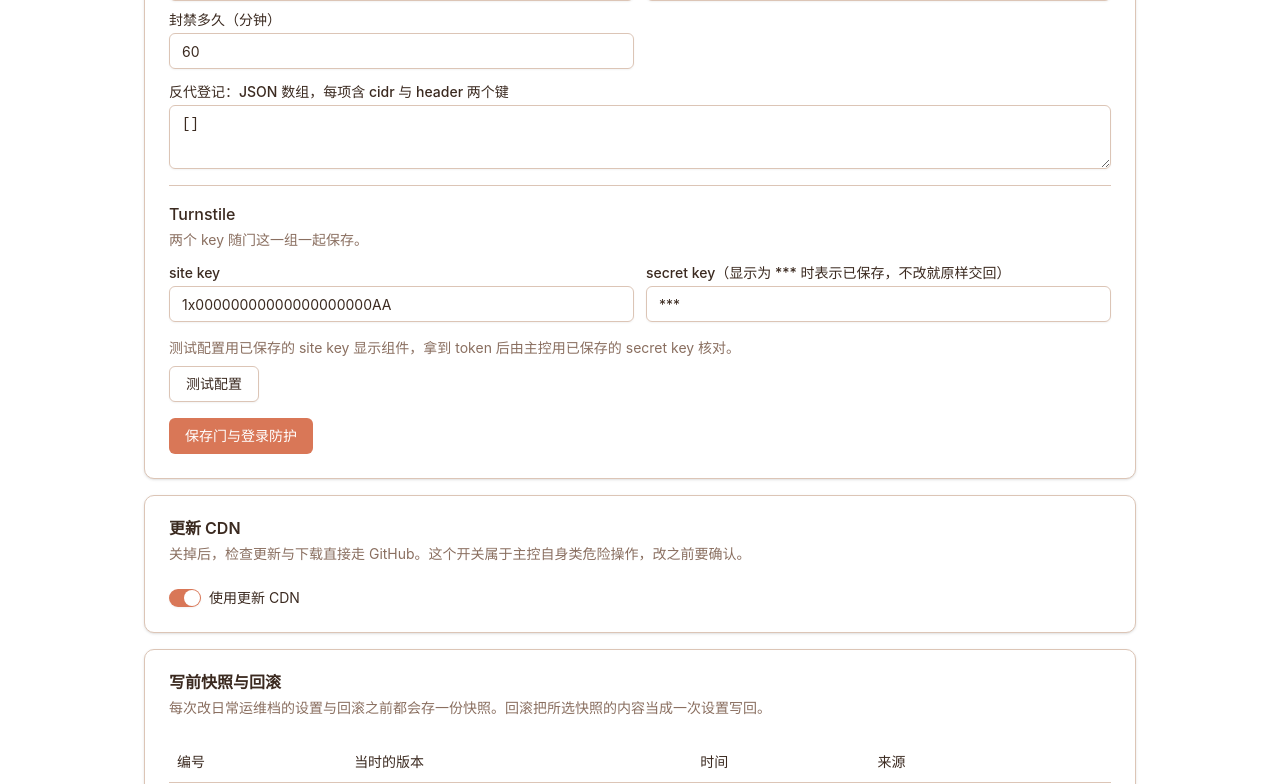
Test: 系统设置页 › 测试 Turnstile 配置：用已保存的 site key 显示组件，拿到 token 后显示核对结果
The width and height of the screenshot is (1280, 784).
(page scrolled)
What coordinates should you click on to do the following:
click the button "测试配置"
I would click on:
 (214, 384)
Its box is [169,366,259,402].
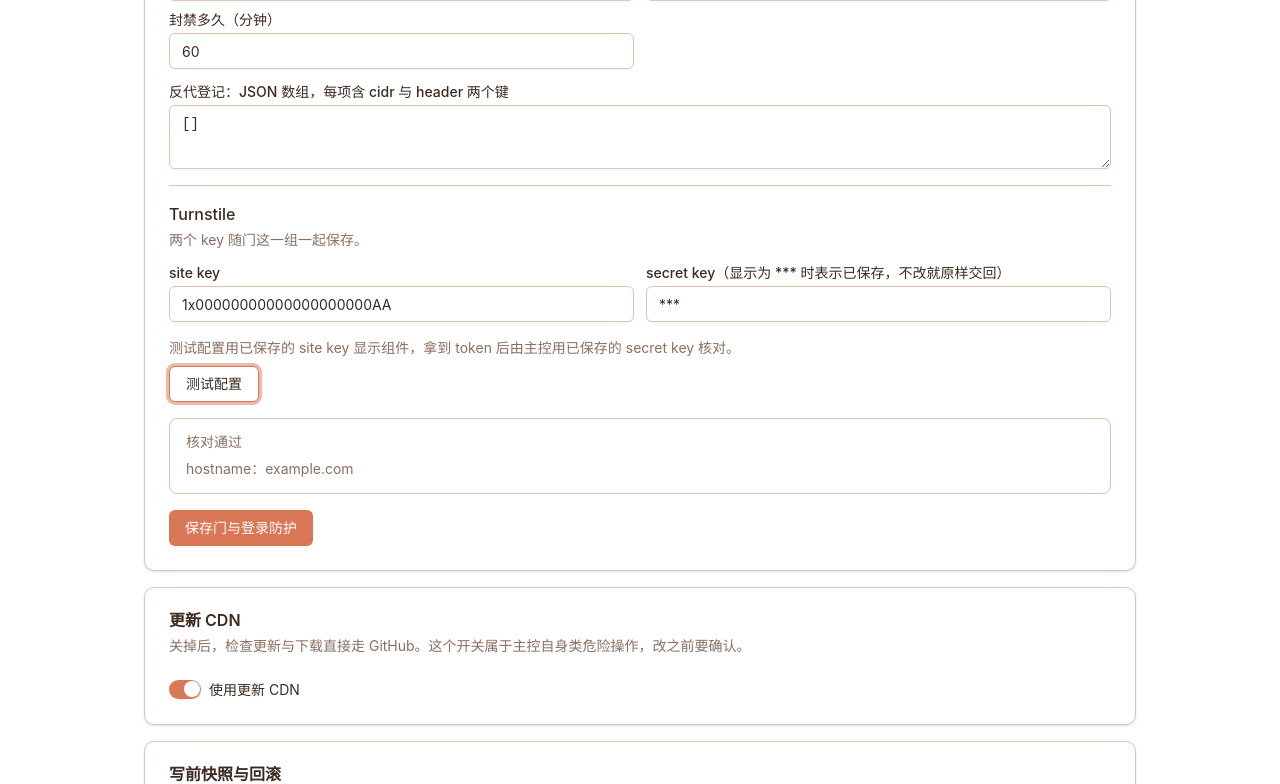
Now the text "核对通过" is shown, box [186,431,242,454]
Now the text "hostname：example.com" is shown, box [186,458,354,481]
